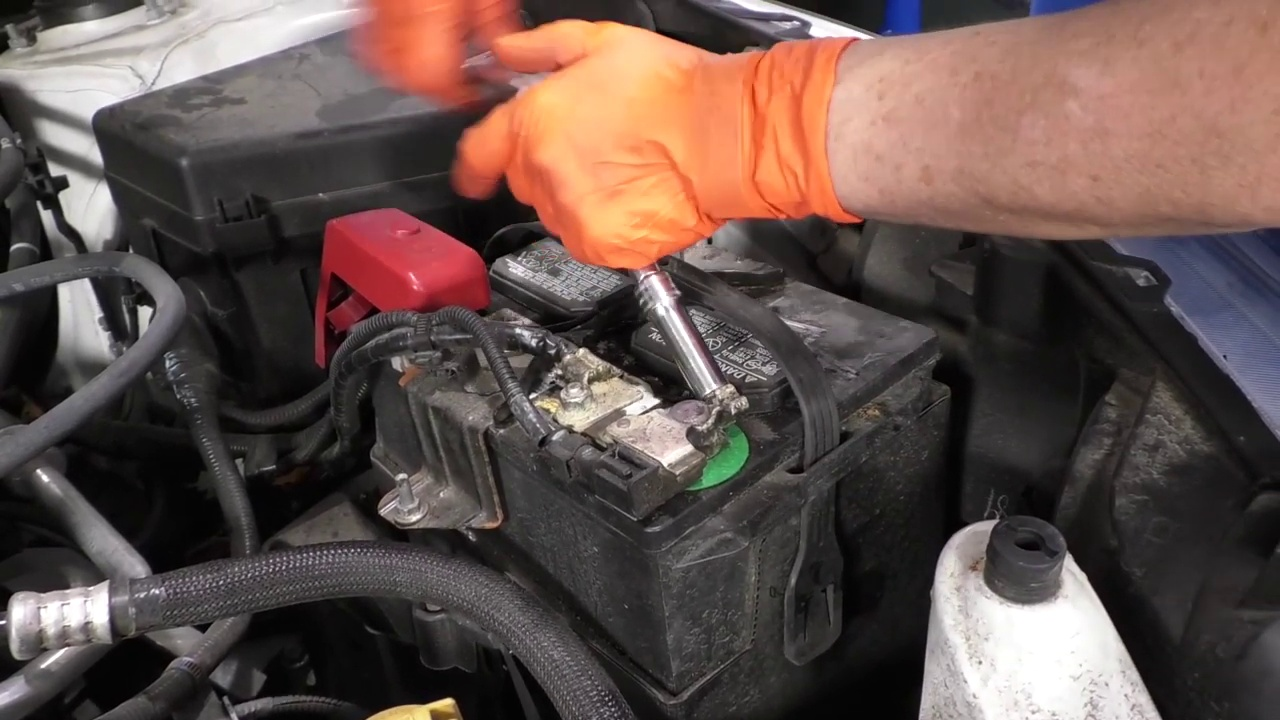battery: (320, 191, 933, 497)
neg_connected: (610, 367, 723, 481)
pos_connected: (302, 198, 499, 379)
